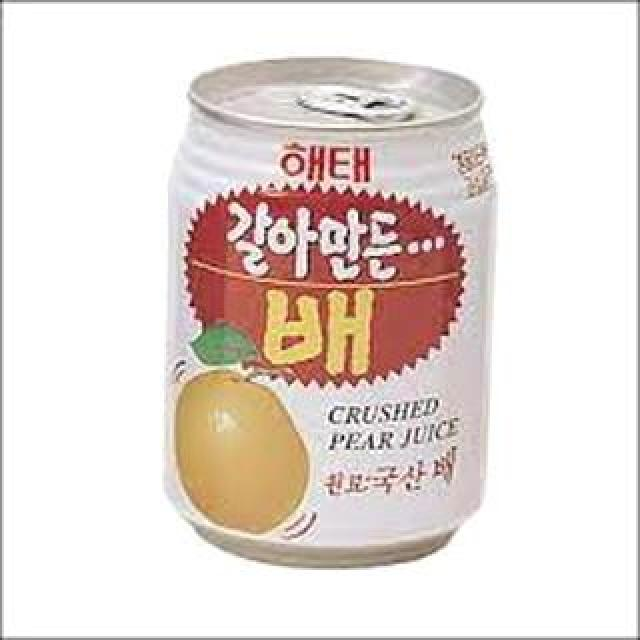Can: (163, 59, 493, 571)
